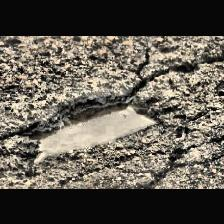pothole: (10, 90, 166, 166)
